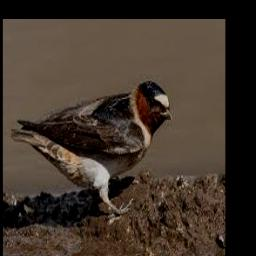Swallow: (12, 81, 172, 213)
